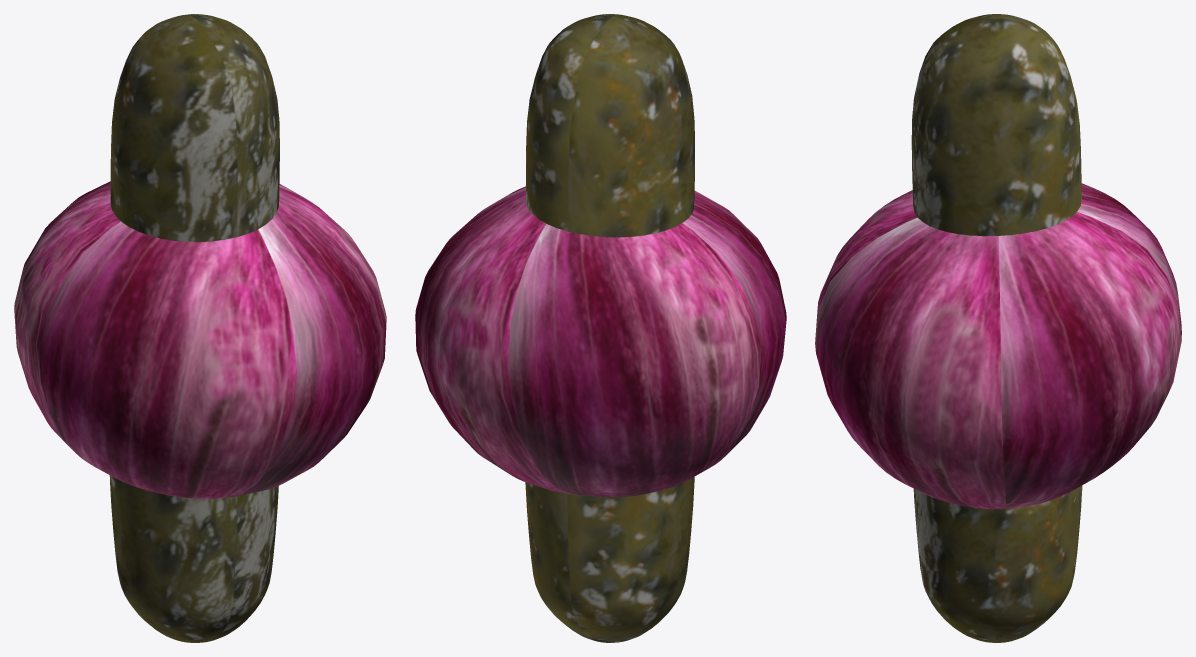
Rendered from Pickles_Onions_Abdullah.fbx.
The picture shows the model from 3 angles, left to right: view 1: azimuth 30°, elevation 25°; view 2: azimuth 150°, elevation 25°; view 3: azimuth 270°, elevation 25°; orthographic projection.
Visible parts, largest first — view 1: Onion_01, Pickel_01; view 2: Onion_01, Pickel_01; view 3: Onion_01, Pickel_01.
Boxes of the visible parts, box(x1,y1,x2,y2) form: Onion_01: box(14, 181, 386, 498); Pickel_01: box(109, 14, 279, 642); Onion_01: box(415, 186, 786, 496); Pickel_01: box(525, 14, 694, 642); Onion_01: box(815, 183, 1181, 508); Pickel_01: box(911, 14, 1082, 642).
Size of the model in its own units: 3.77 by 6.91 by 3.71.
